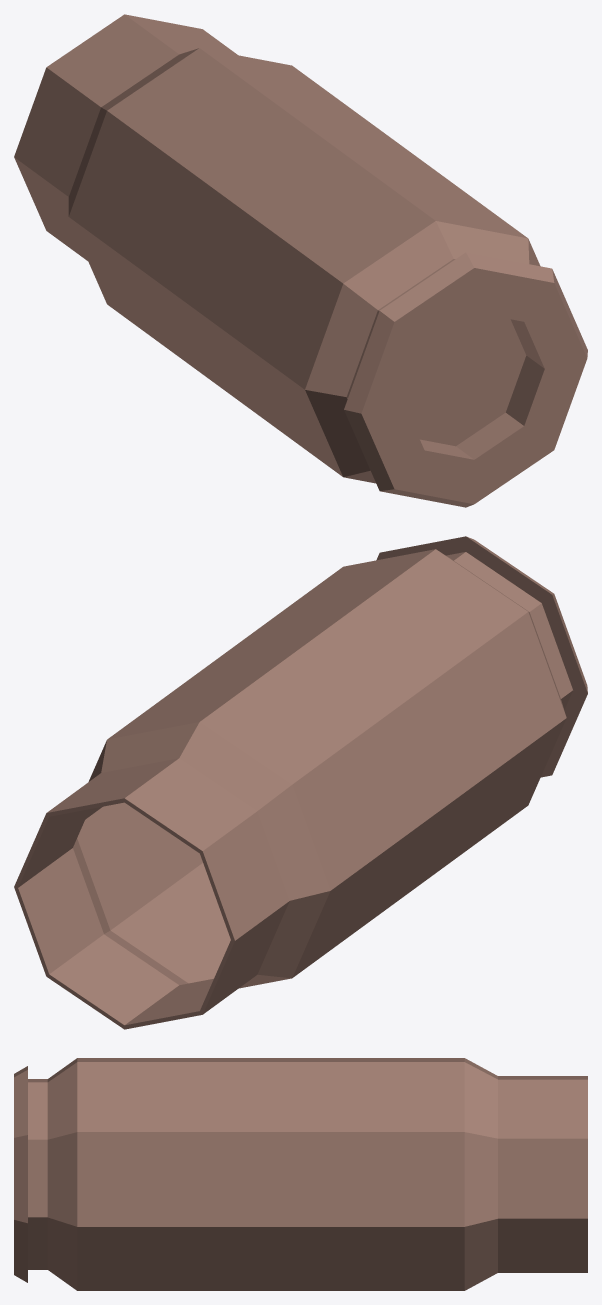
File: case.glb
3 views of the same model, one above another, from view 1: azimuth 30°, elevation 25°; view 2: azimuth 150°, elevation 25°; view 3: azimuth 270°, elevation 25° (orthographic). The views are drawn at different scales.
Parts seen in each view (by area): view 1: 762x25-tokarev-case; view 2: 762x25-tokarev-case; view 3: 762x25-tokarev-case.
Part boxes in pixels (<box>): 762x25-tokarev-case: <box>14,14,587,507</box>; 762x25-tokarev-case: <box>14,536,587,1029</box>; 762x25-tokarev-case: <box>14,1058,587,1290</box>.
Size of the model in its own units: 0.0109 by 0.0109 by 0.0251.
